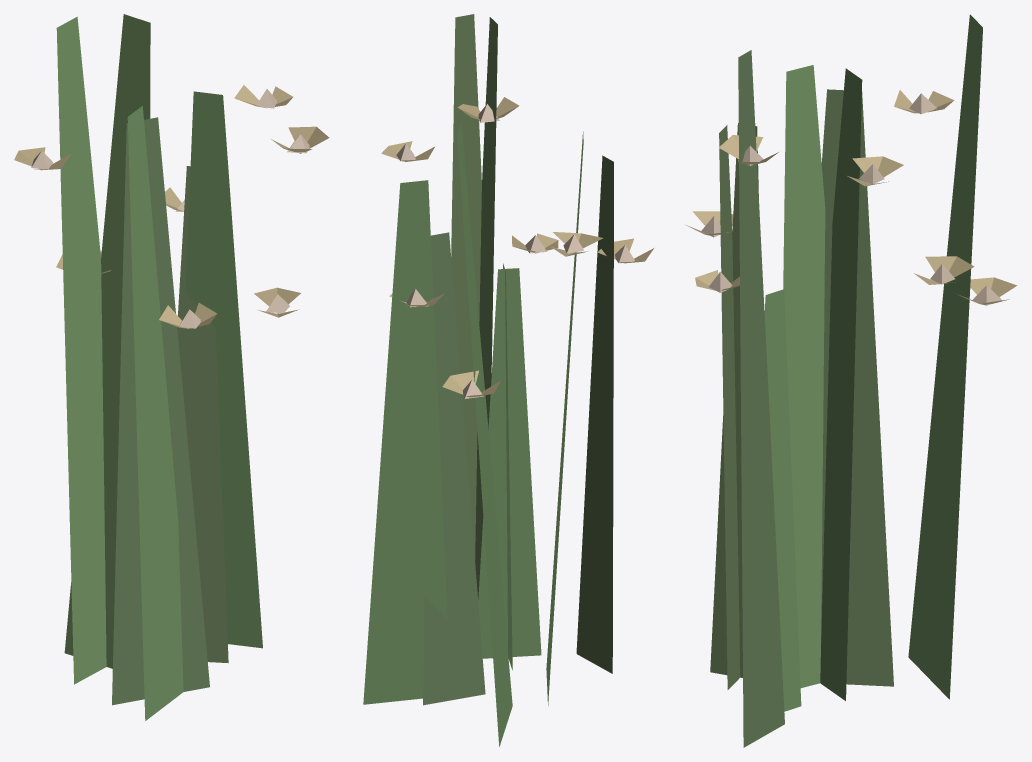
File: cao.luwei@flowering__summer.glb
3 views of the same model, side by side, from view 1: azimuth 30°, elevation 25°; view 2: azimuth 150°, elevation 25°; view 3: azimuth 270°, elevation 25° (orthographic). The views are drawn at different scales.
Parts seen in each view (by area): view 1: cao.luwei@flowering__summer; view 2: cao.luwei@flowering__summer; view 3: cao.luwei@flowering__summer.
Boxes of the visible parts, x1,y1,x2,y2 form: cao.luwei@flowering__summer: (14, 14, 329, 720); cao.luwei@flowering__summer: (363, 14, 653, 746); cao.luwei@flowering__summer: (686, 14, 1017, 747).
Size of the model in its own units: 0.9454 by 2.41 by 1.08.
